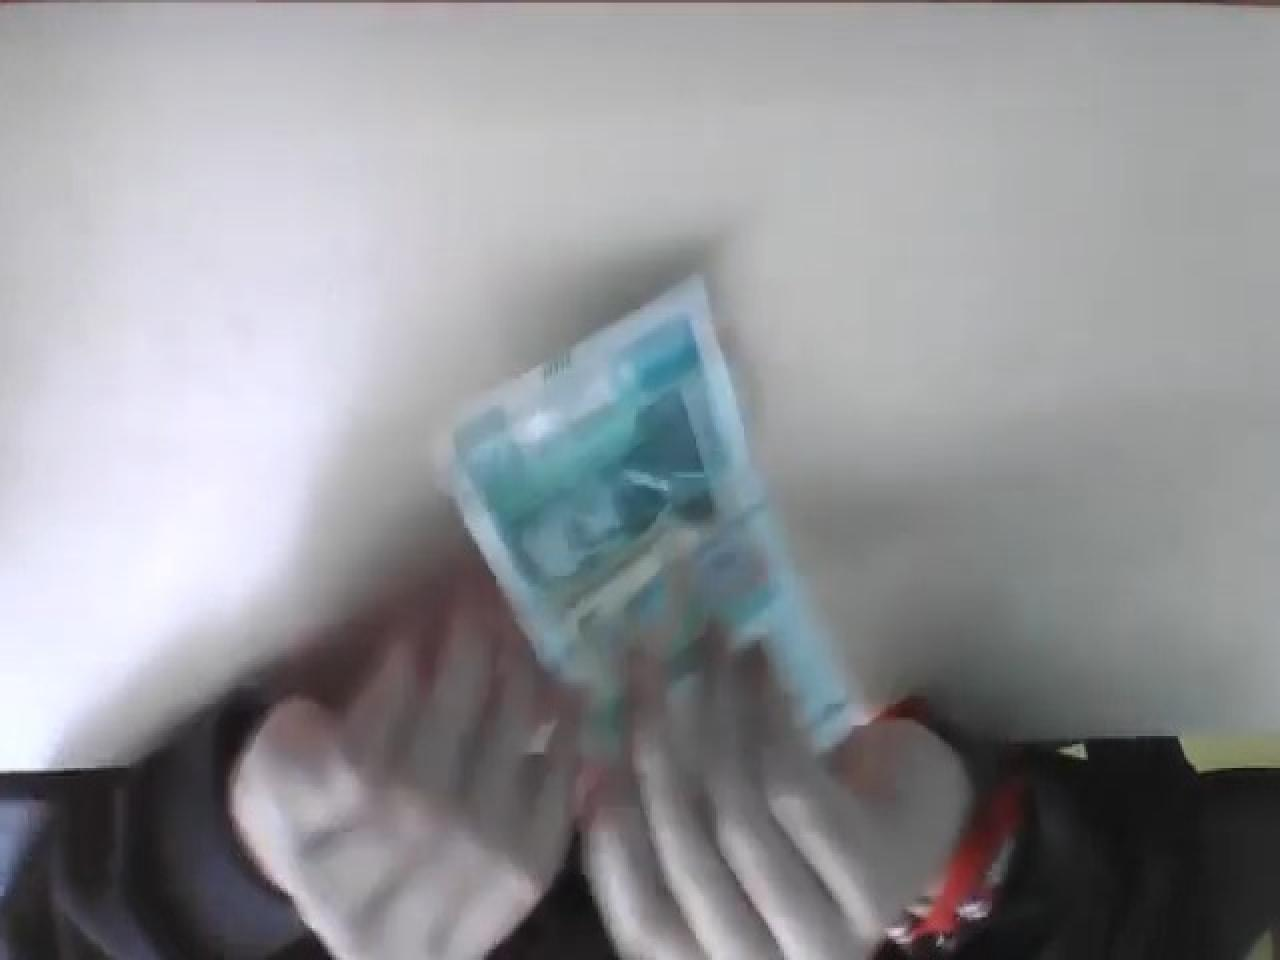100leva: (442, 272, 852, 770)
